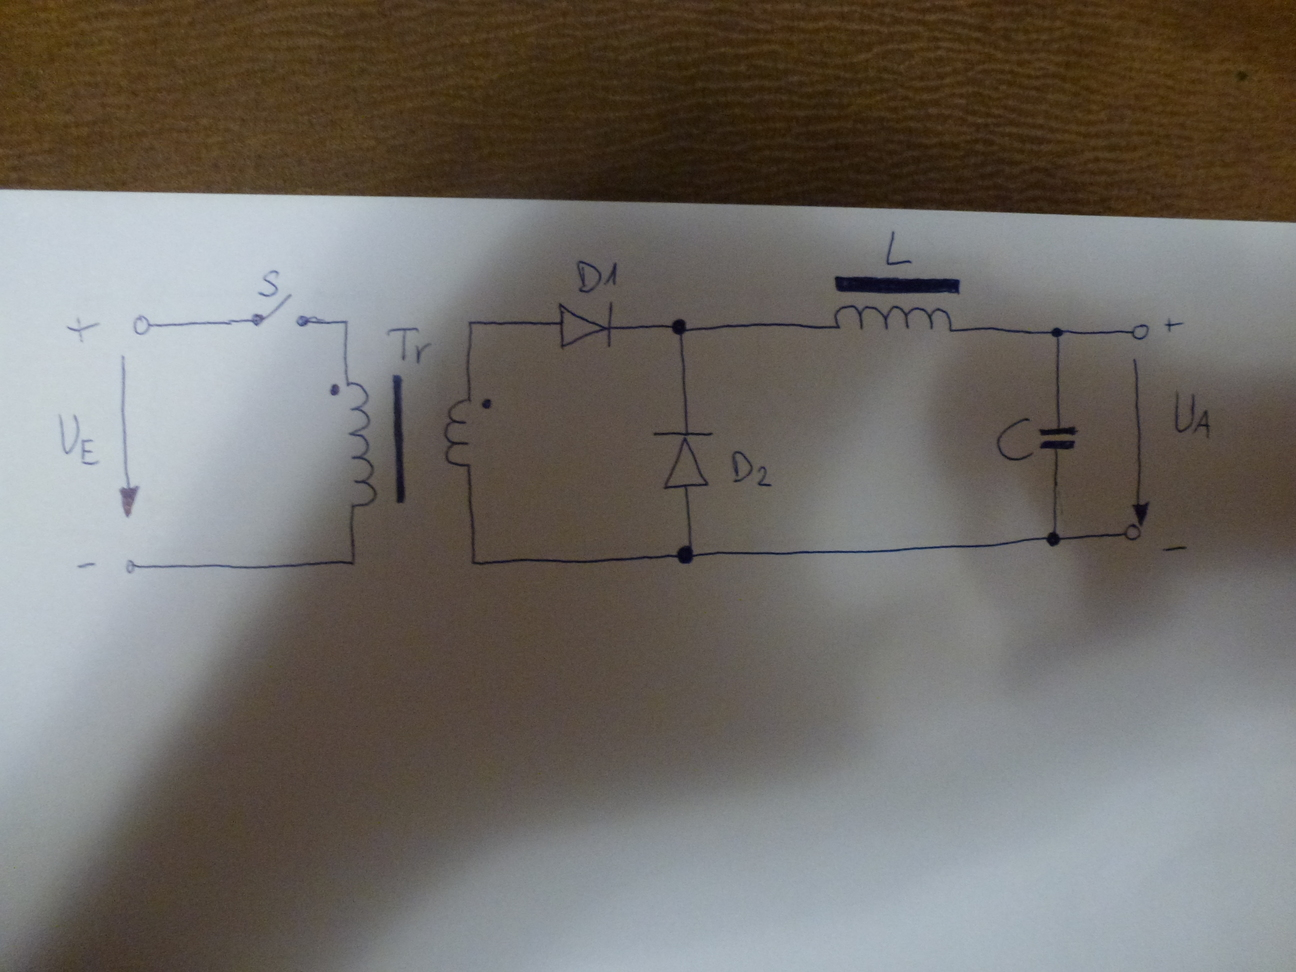capacitor.unpolarized: (1036, 420, 1080, 454)
diode: (650, 421, 718, 492), (553, 295, 614, 349)
inductor: (824, 271, 966, 339)
junction: (667, 314, 691, 340), (675, 541, 697, 568), (1043, 527, 1063, 548), (1047, 323, 1066, 341), (342, 552, 362, 570), (337, 315, 355, 331), (463, 315, 479, 331), (467, 555, 481, 569)
switch: (250, 291, 312, 331)
terminal: (127, 311, 159, 338), (1129, 321, 1154, 341), (1121, 522, 1142, 544), (120, 557, 141, 577)
text: (54, 408, 102, 469), (1169, 387, 1215, 442), (725, 448, 775, 492), (995, 414, 1038, 464), (571, 256, 621, 296), (879, 228, 923, 270), (386, 326, 431, 364), (255, 265, 284, 300)
transformer: (325, 368, 499, 511)
